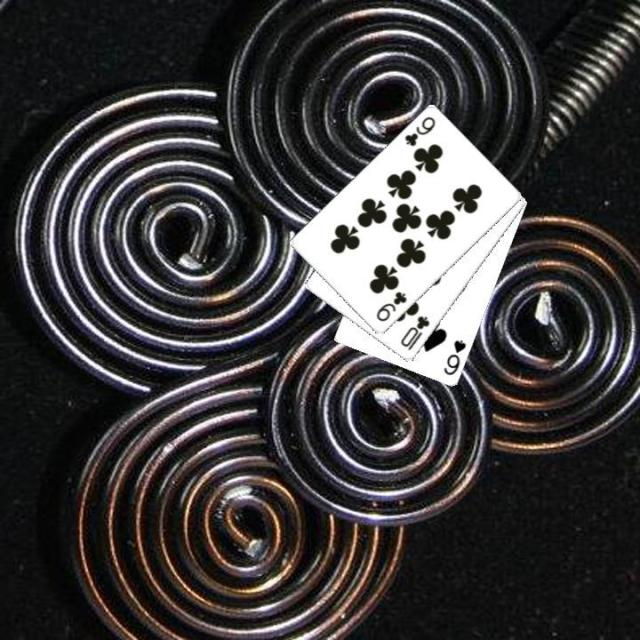10C: (396, 312, 432, 353)
6S: (440, 336, 468, 377)
9C: (372, 288, 409, 324), (401, 113, 437, 148)
